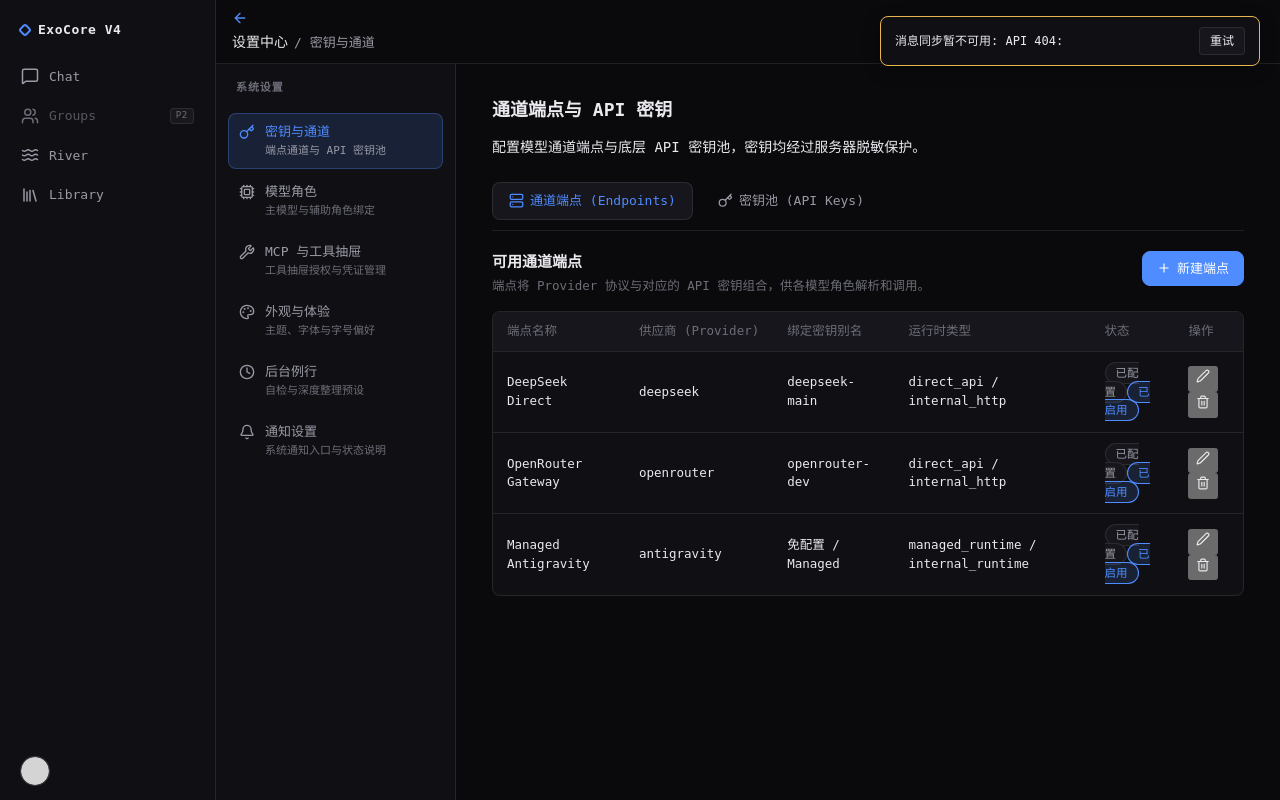
Phase 2C CP C-3 — Endpoints, API Keys & Model Roles › Endpoints Management › handles 409 conflict on endpoint deletion preserving row with actionable error
Click the button named "删除端点 DeepSeek Direct".
click(1203, 405)  # box left=1188, top=392, right=1218, bottom=418
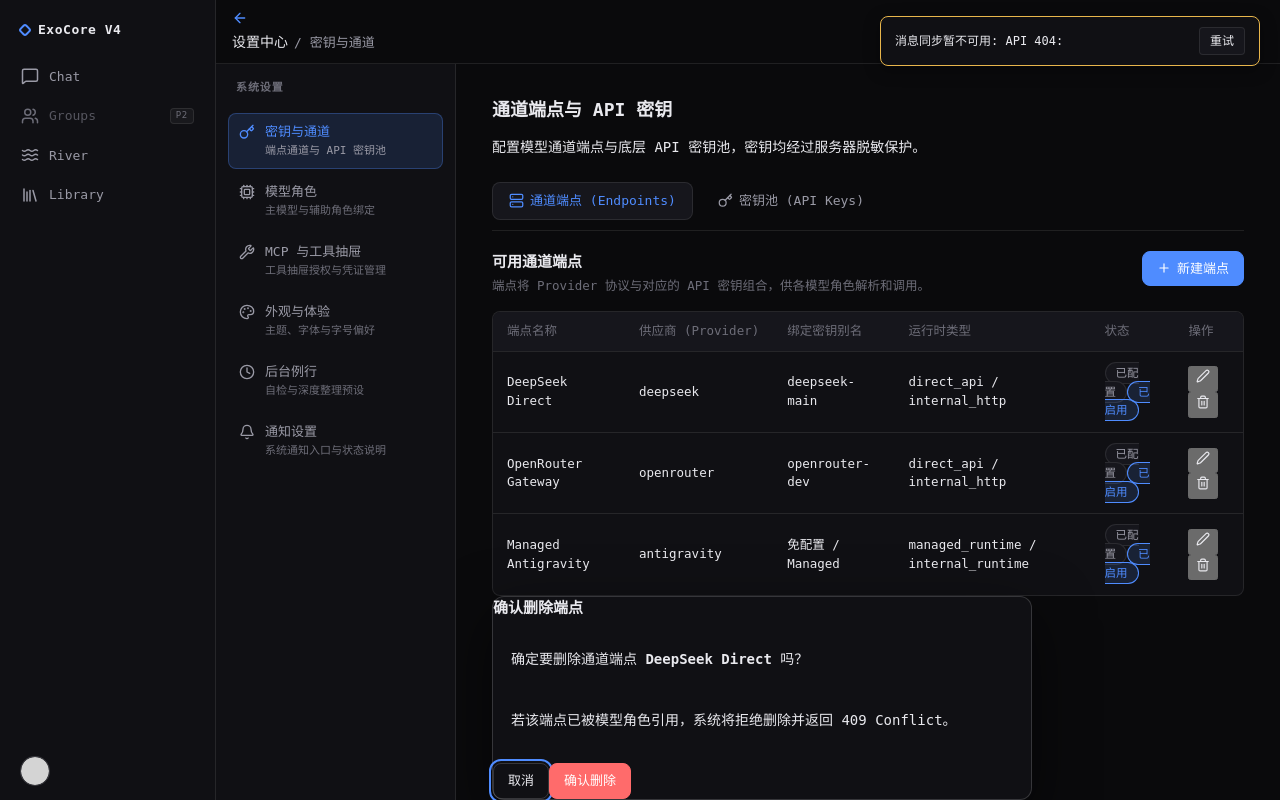
Now the heading "确认删除端点" is shown, box left=493, top=599, right=583, bottom=617
Click the button "确认删除".
click(590, 781)  # box left=549, top=763, right=631, bottom=799
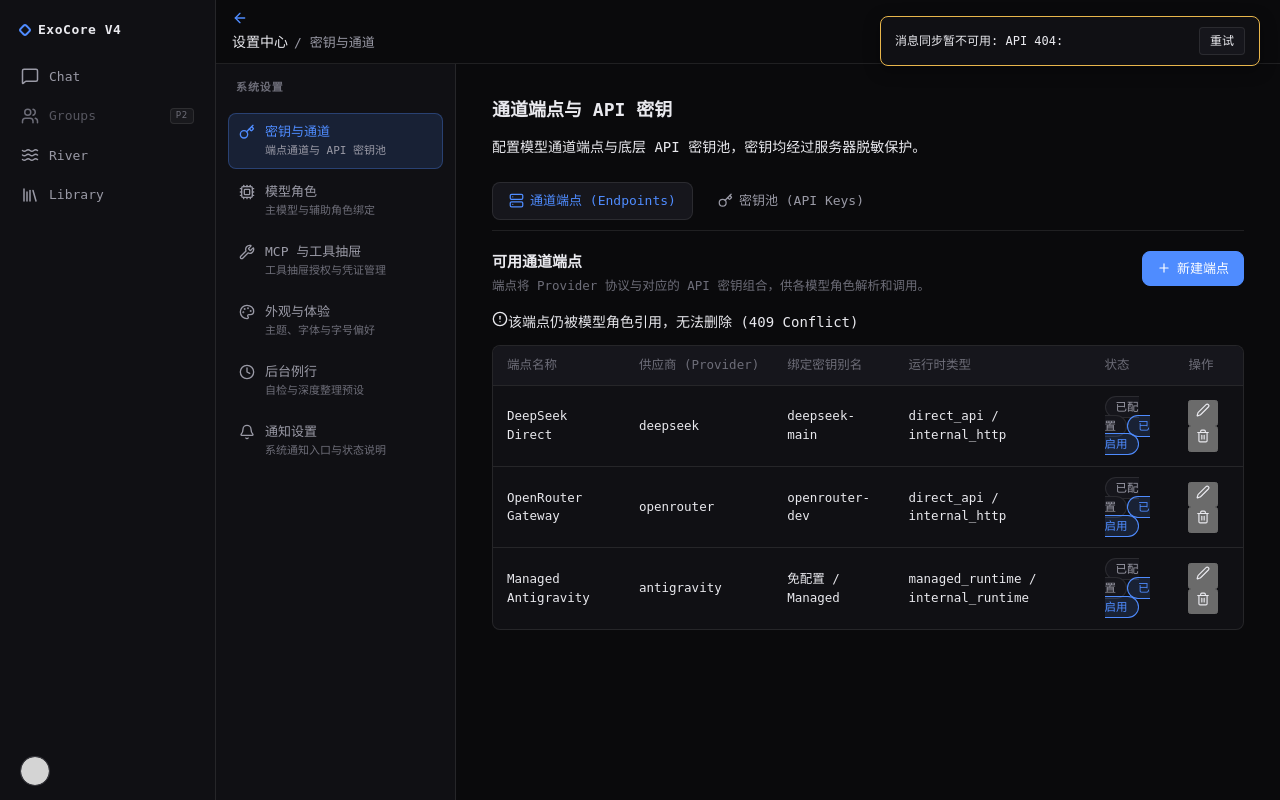
Expected: the text "DeepSeek Direct" is shown, left=493, top=385, right=625, bottom=467
Now the text "该端点仍被模型角色引用，无法删除 (409 Conflict)" is shown, box left=508, top=314, right=858, bottom=330
